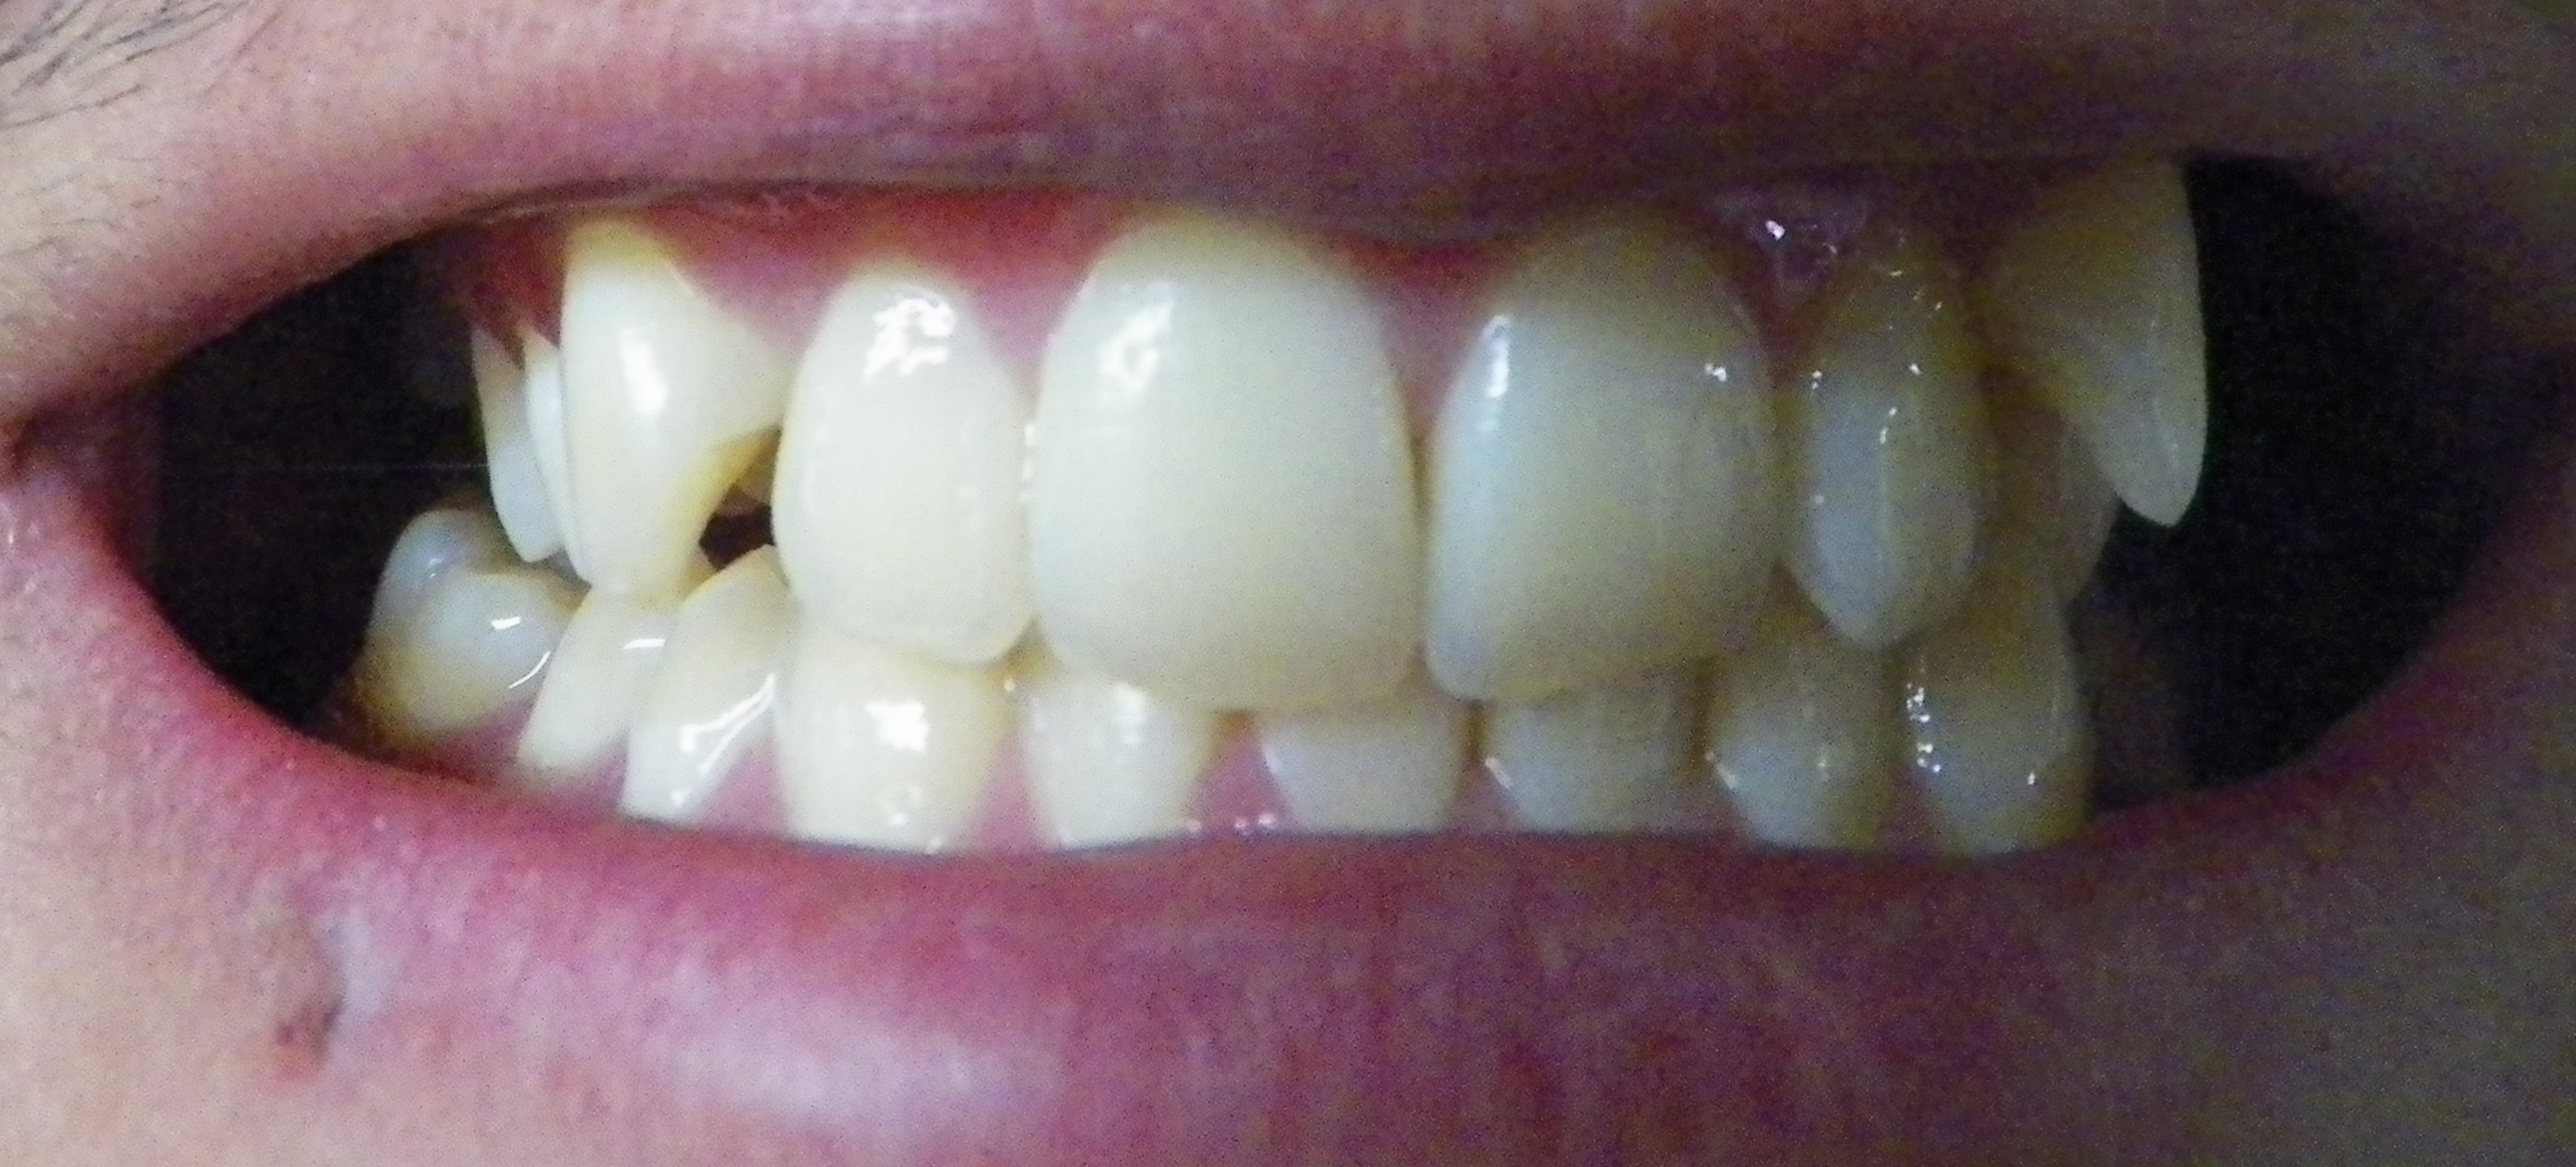boca: (370, 184, 2213, 869)
